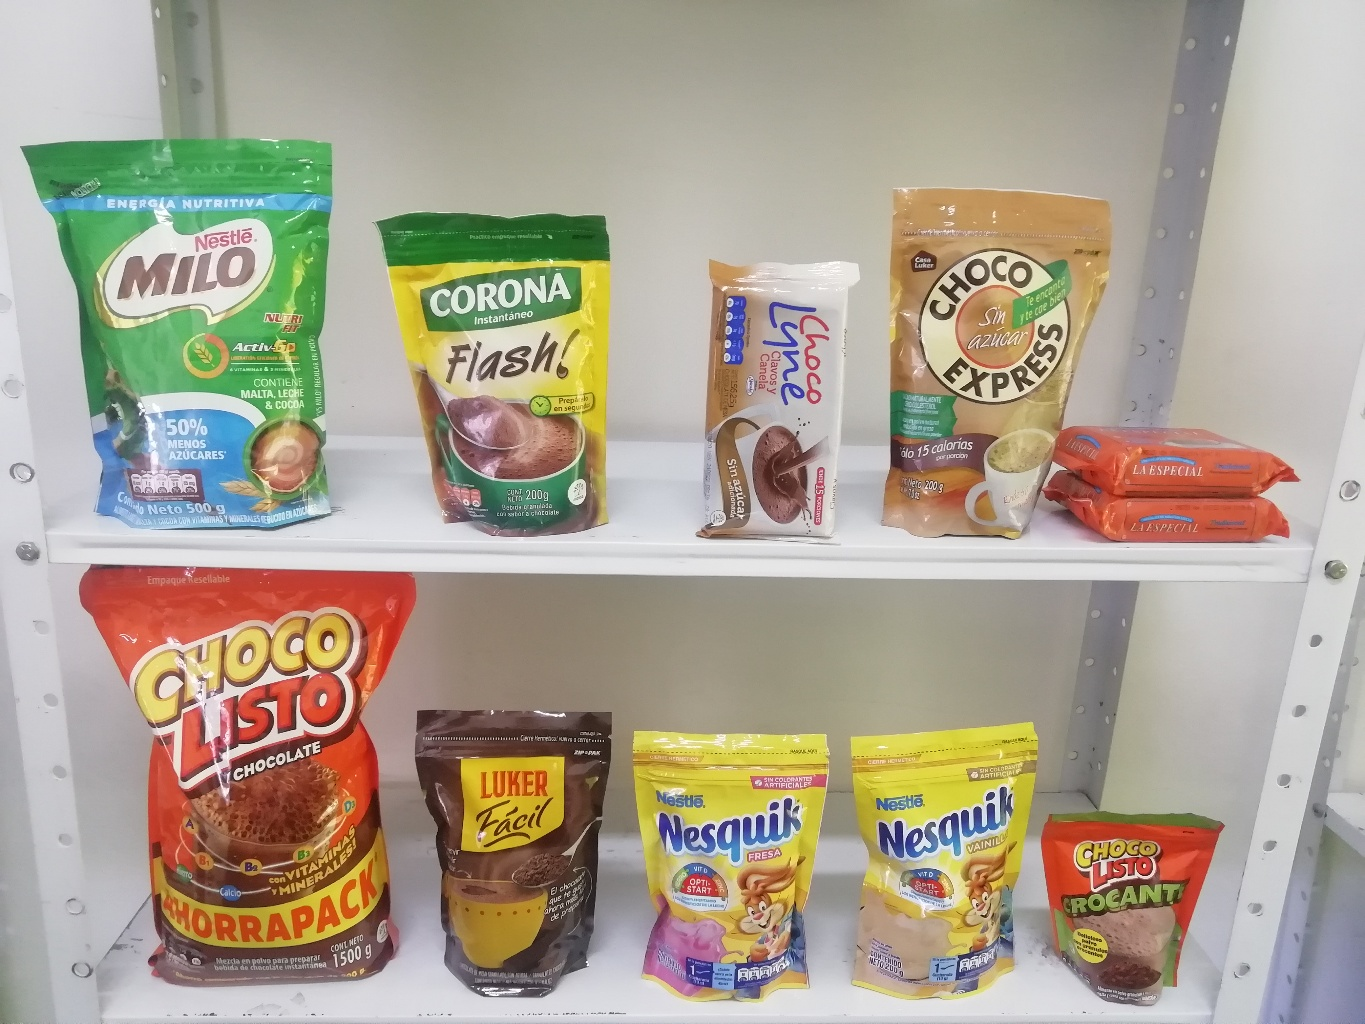COL0170102DYP10000: (1048, 807, 1224, 1007)
COL0170103DYP1,500: (73, 560, 432, 989)
COL0170205DYP50000: (18, 129, 344, 532)
COL0170305DYP20000: (632, 726, 837, 1002)
COL0170306DYP20000: (850, 725, 1037, 999)
